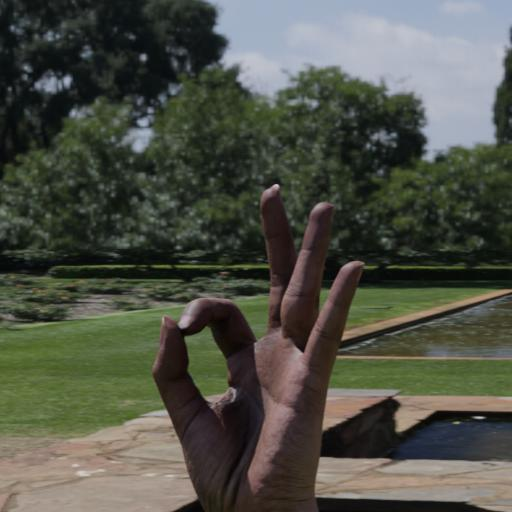F: (96, 149, 392, 512)
